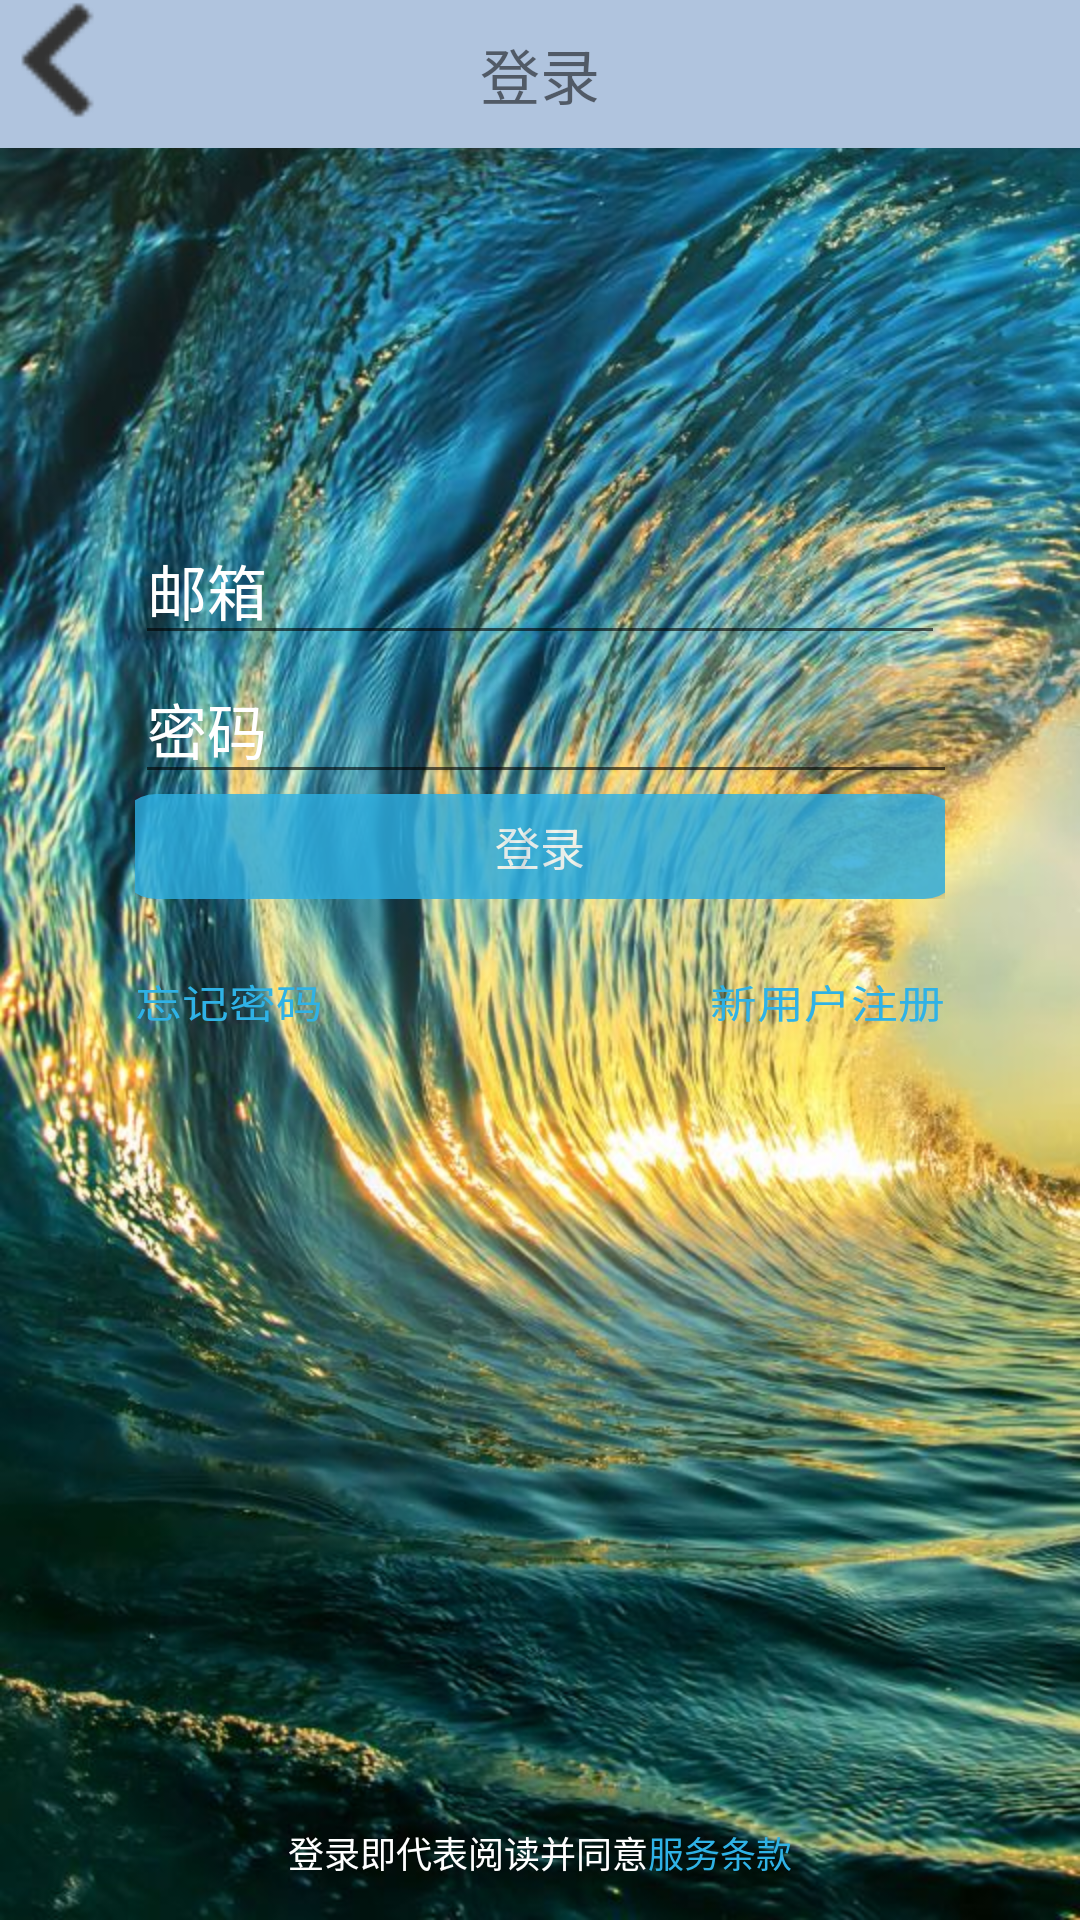

Icons on this 1080 × 1920 Android screen, each with its box as (x1, y1, x2, y2):
left arrow: (22, 3, 93, 117)
